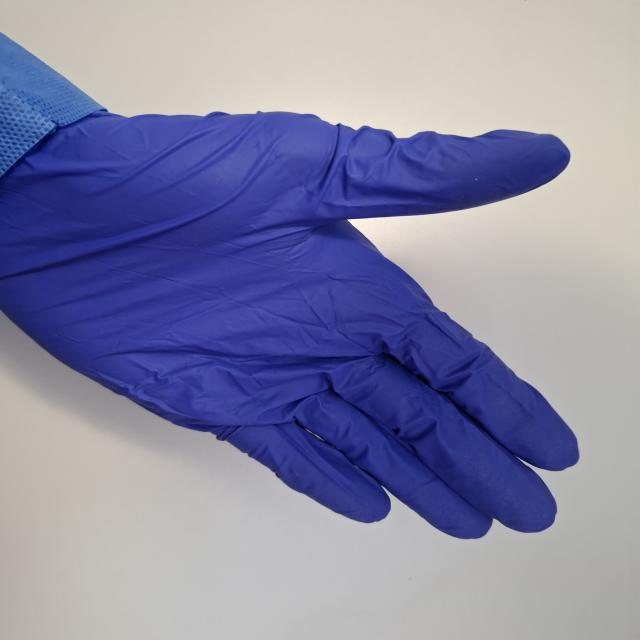glove_on: (0, 101, 584, 544)
